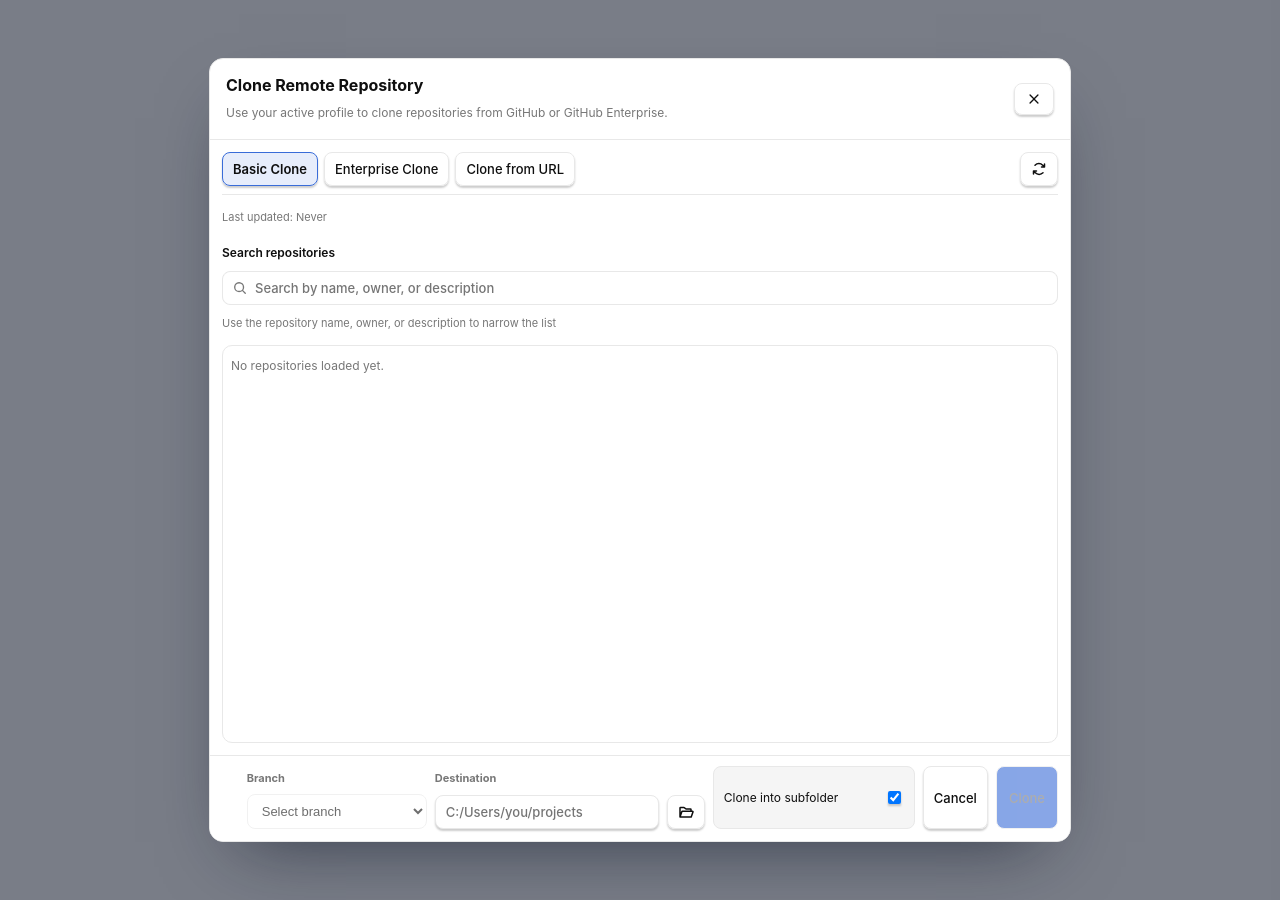
Test: CloneRemoteRepositoryModal › validates URL clone input before invoking clone command
The image size is (1280, 900).
Click the button "Clone from URL".
click(515, 169)  # box [455,152,575,186]
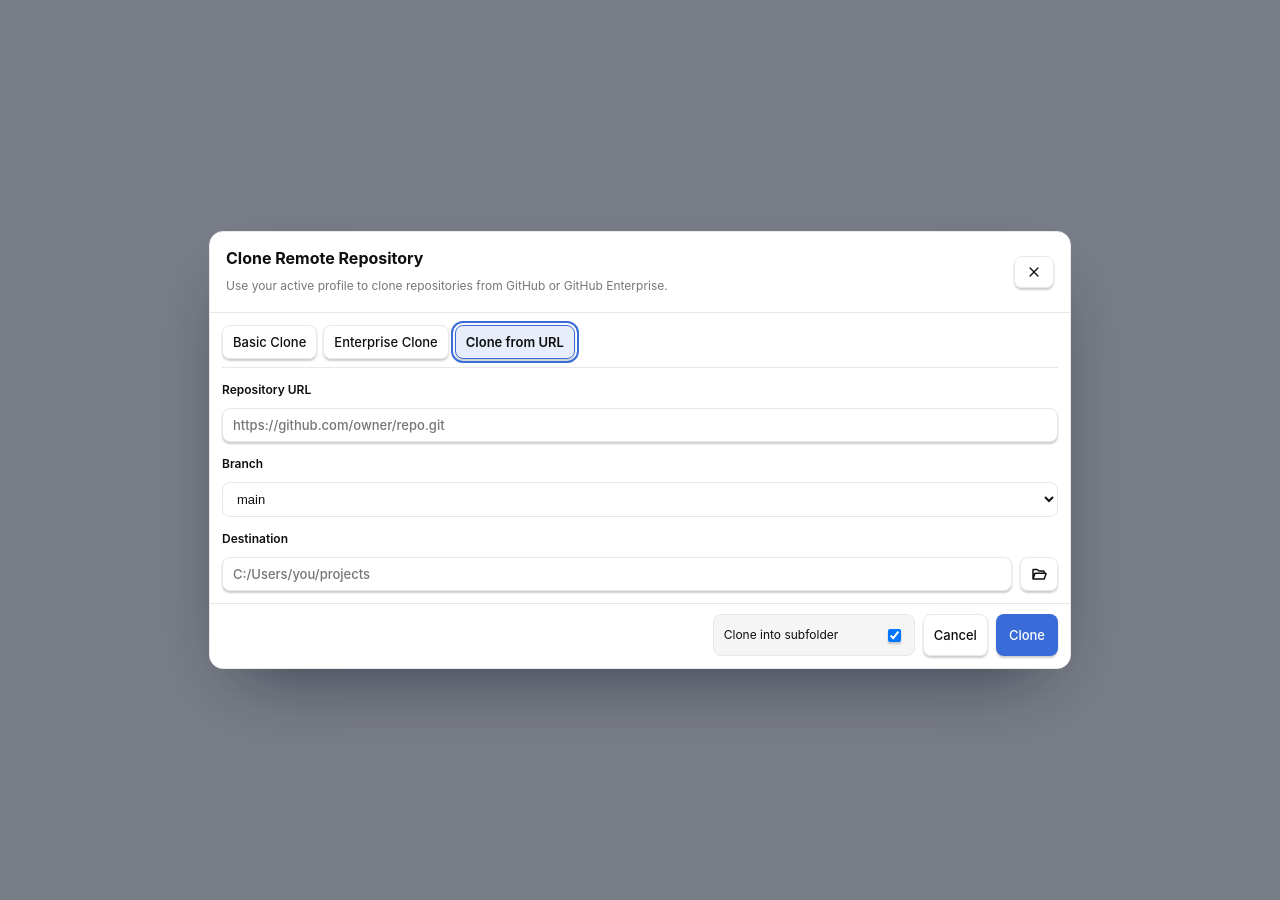
Click the button "Clone".
click(1027, 635)  # box [996,614,1058,656]
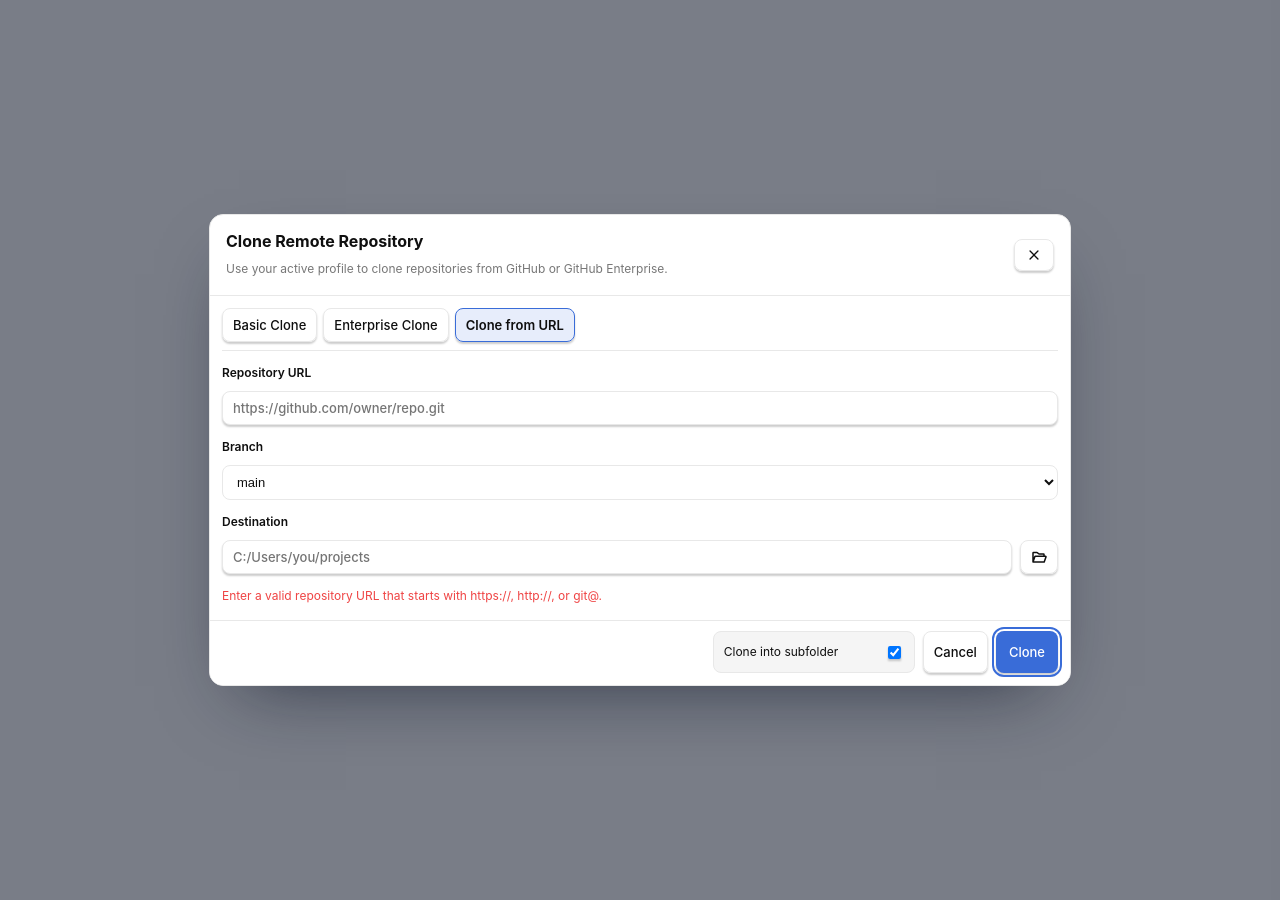
Result: the text "Enter a valid repository URL that starts with https://, http://, or git@." is shown at [222,588,602,603]
